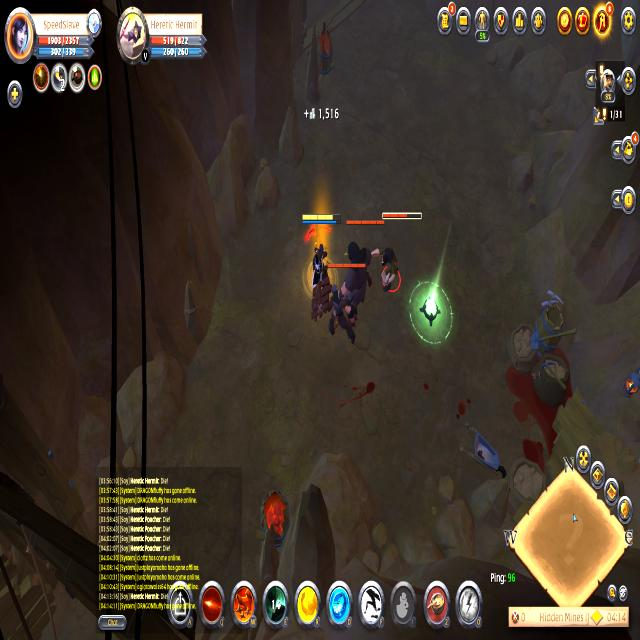ore: (363, 208, 426, 304), (332, 212, 386, 323), (311, 260, 368, 364)
red: (300, 210, 344, 311)
